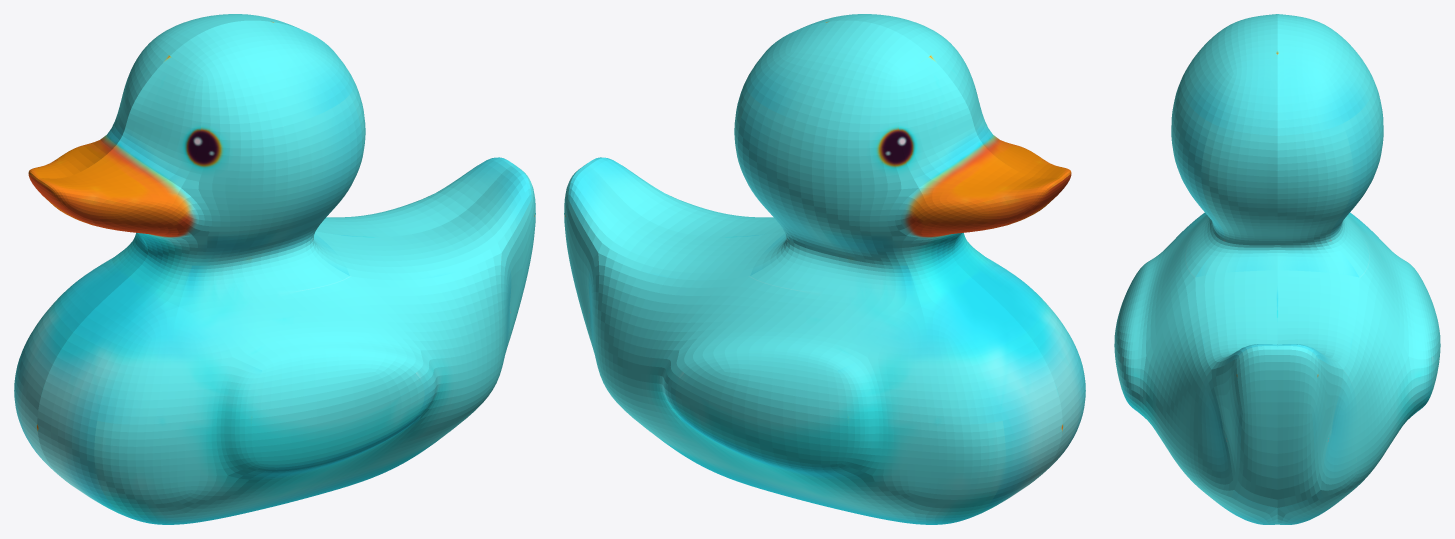
File: duck_blue.obj
The picture shows the model from 3 angles, left to right: view 1: azimuth 30°, elevation 25°; view 2: azimuth 150°, elevation 25°; view 3: azimuth 270°, elevation 25°; orthographic projection. The views are drawn at different scales.
Visible parts, largest first — view 1: Cube; view 2: Cube; view 3: Cube.
Part boxes in pixels (left/top/right/bottom): Cube: left=14, top=14, right=535, bottom=524; Cube: left=564, top=14, right=1085, bottom=524; Cube: left=1114, top=14, right=1440, bottom=524.
Bounding box in the file's own units: 6.11 × 5.75 × 3.89.
